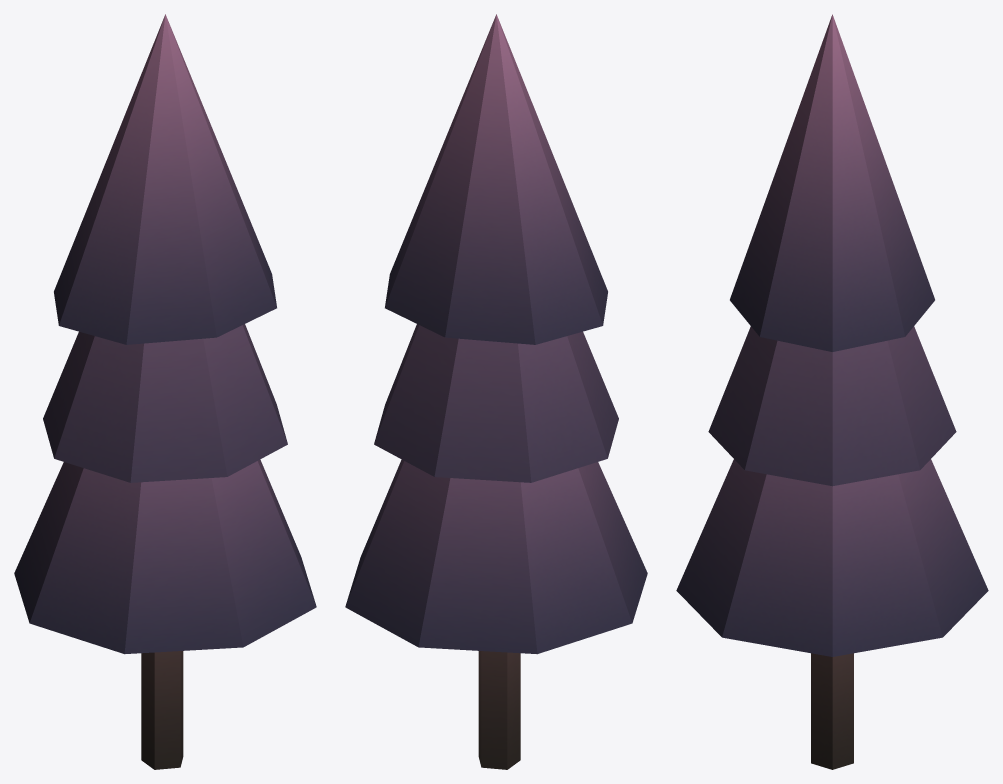
File: tree_1.fbx
3 views of the same model, side by side, from view 1: azimuth 30°, elevation 25°; view 2: azimuth 150°, elevation 25°; view 3: azimuth 270°, elevation 25° (orthographic).
Visible parts, largest first — view 1: pCylinder2; view 2: pCylinder2; view 3: pCylinder2.
Boxes of the visible parts, x1,y1,x2,y2 form: pCylinder2: [14, 14, 316, 769]; pCylinder2: [345, 14, 647, 769]; pCylinder2: [676, 14, 988, 769].
Bounding box in the file's own units: 1.14 × 2.98 × 1.13.
1 material, 1 textured.
